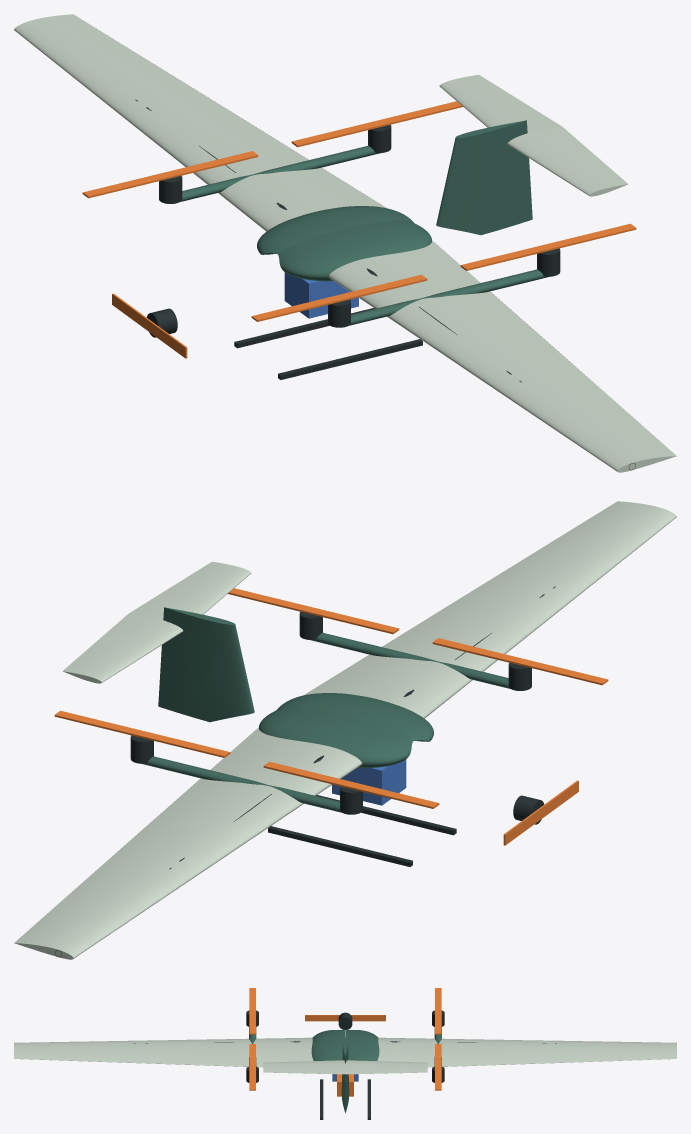
The model's file is control-06-internal.glb.
The picture shows the model from 3 angles, top to bottom: view 1: azimuth 30°, elevation 25°; view 2: azimuth 150°, elevation 25°; view 3: azimuth 270°, elevation 25°; orthographic projection. The views are drawn at different scales.
Visible parts, largest first — view 1: wing-1, wing1, fin, root_fairing-1, tail-1, root_fairing1, tail1, boom_fairing-1, boom_fairing1, payload, prop_1_200.0, prop_-1_200.0 (+5 smaller); view 2: wing1, wing-1, fin, root_fairing1, tail1, root_fairing-1, tail-1, boom_fairing1, boom_fairing-1, payload, prop_-1_200.0, prop_1_200.0 (+5 smaller); view 3: wing-1, wing1, tail-1, tail1, root_fairing-1, root_fairing1, cruise_prop, fin, prop_-1_200.0, prop_-1_700.0, prop_1_200.0, prop_1_700.0 (+2 smaller).
Part boxes in pixels (bbox=[...]): wing-1: bbox=[328, 240, 676, 472]; wing1: bbox=[14, 14, 386, 231]; fin: bbox=[436, 120, 532, 235]; root_fairing-1: bbox=[278, 220, 431, 281]; tail-1: bbox=[507, 126, 628, 196]; root_fairing1: bbox=[257, 206, 413, 254]; tail1: bbox=[439, 74, 561, 132]; boom_fairing-1: bbox=[349, 269, 549, 325]; boom_fairing1: bbox=[180, 145, 380, 201]; payload: bbox=[284, 272, 358, 318]; prop_1_200.0: bbox=[82, 151, 258, 198]; prop_-1_200.0: bbox=[251, 274, 427, 321]; wing1: bbox=[14, 727, 362, 959]; wing-1: bbox=[304, 501, 676, 718]; fin: bbox=[158, 607, 254, 722]; root_fairing1: bbox=[259, 707, 412, 768]; tail1: bbox=[62, 613, 183, 683]; root_fairing-1: bbox=[277, 693, 433, 741]; tail-1: bbox=[129, 561, 251, 619]; boom_fairing1: bbox=[141, 756, 341, 812]; boom_fairing-1: bbox=[310, 632, 510, 688]; payload: bbox=[332, 759, 406, 805]; prop_-1_200.0: bbox=[432, 638, 608, 685]; prop_1_200.0: bbox=[263, 761, 439, 808]; wing-1: bbox=[14, 1037, 313, 1067]; wing1: bbox=[377, 1037, 676, 1067]; tail-1: bbox=[263, 1060, 345, 1074]; tail1: bbox=[345, 1060, 427, 1074]; root_fairing-1: bbox=[311, 1030, 345, 1060]; root_fairing1: bbox=[345, 1030, 379, 1060]; cruise_prop: bbox=[305, 1015, 385, 1021]; fin: bbox=[341, 1037, 349, 1113]; prop_-1_200.0: bbox=[249, 988, 255, 1034]; prop_-1_700.0: bbox=[249, 1044, 255, 1090]; prop_1_200.0: bbox=[435, 988, 441, 1034]; prop_1_700.0: bbox=[435, 1044, 441, 1090].
Bounding box in the file's own units: 989 × 405 × 2500.
